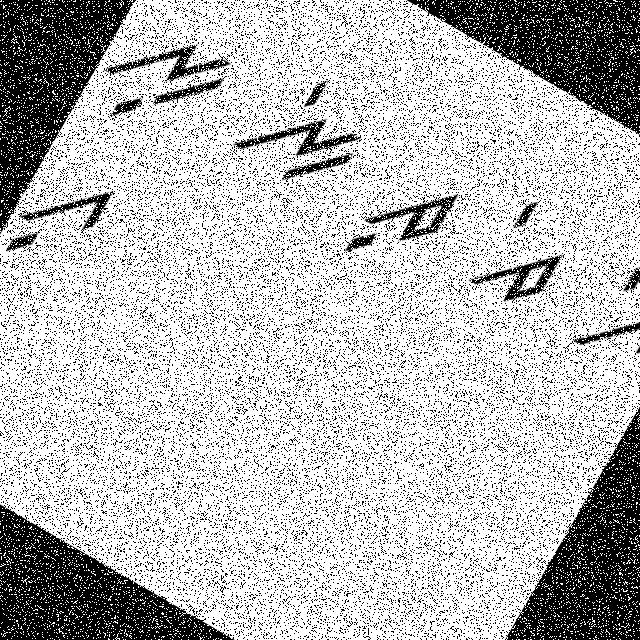ge: (560, 246, 639, 385)
gu: (0, 147, 129, 290)
nge: (230, 51, 385, 208)
ngu: (86, 0, 242, 157)
te: (456, 188, 584, 330)
tu: (338, 146, 468, 288)
